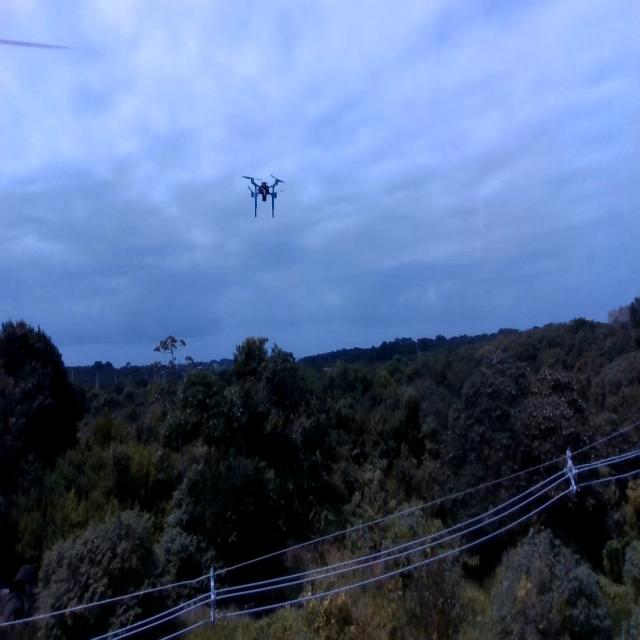-uav-: (239, 163, 289, 218)
